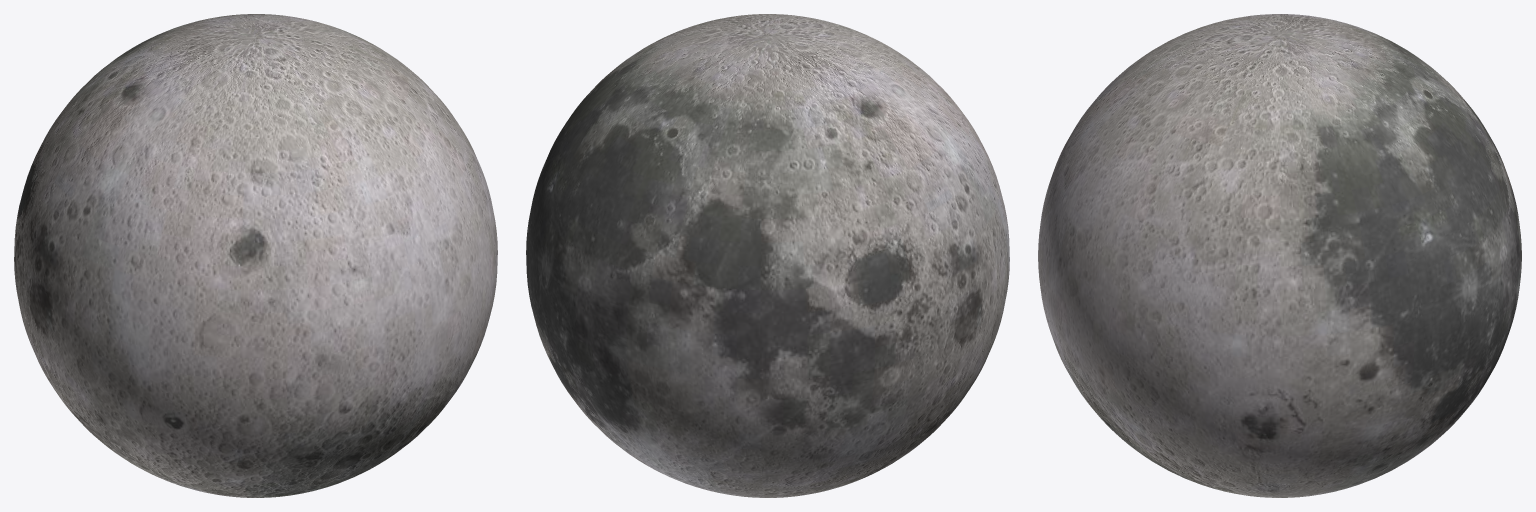
Rendered from animated_moon_opt.glb.
3 views of the same model, side by side, from view 1: azimuth 30°, elevation 25°; view 2: azimuth 150°, elevation 25°; view 3: azimuth 270°, elevation 25° (orthographic).
Visible parts, largest first — view 1: 8k_moon_2; view 2: 8k_moon_2; view 3: 8k_moon_2.
Part boxes in pixels (box(x1,y1,x2,y2)): 8k_moon_2: box(14, 14, 497, 497); 8k_moon_2: box(526, 14, 1009, 497); 8k_moon_2: box(1038, 14, 1521, 497).
Bounding box in the file's own units: 0.6366 × 0.6366 × 0.6366.
1 material, 1 textured.
